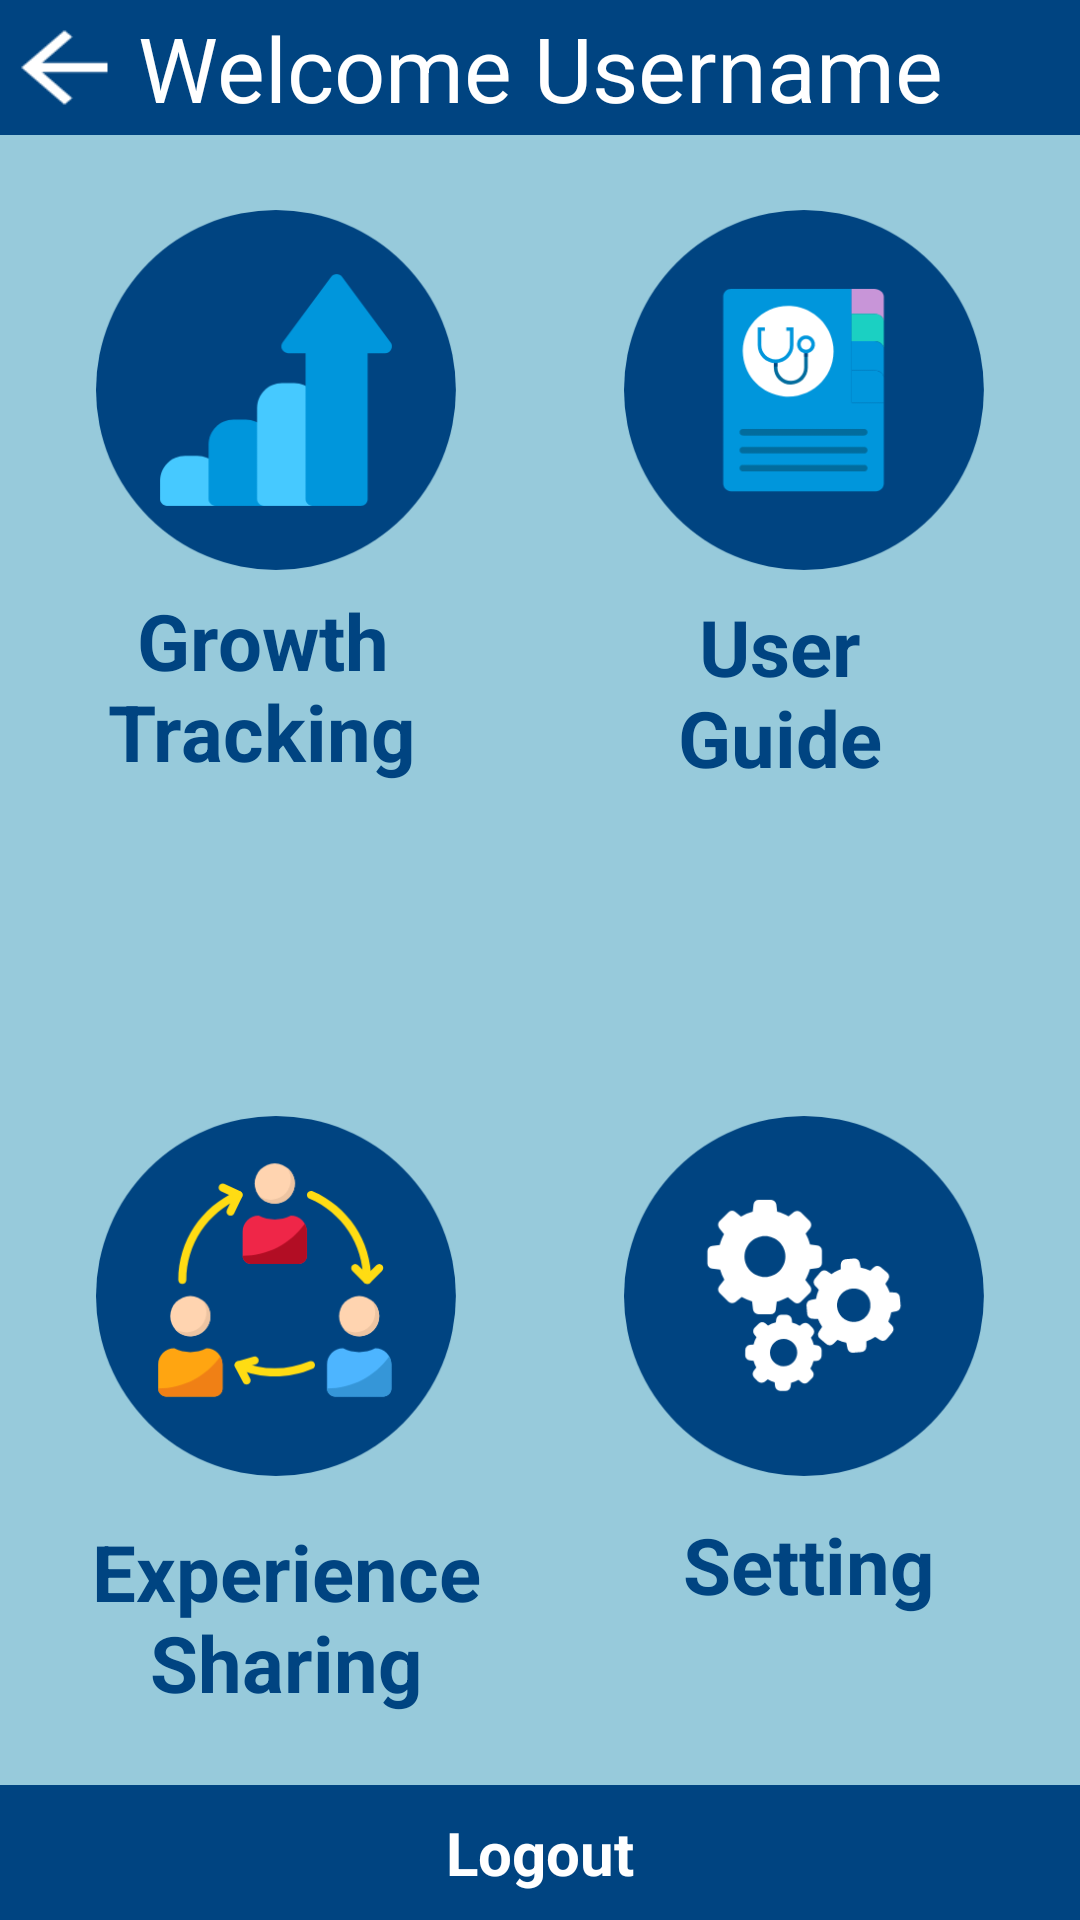

Icon click points for this 1080px×1920px phone screenshot, format point (x, y):
back: point (64, 67)
